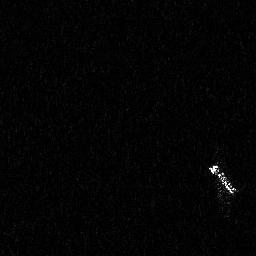ship: (207, 160, 239, 218)
